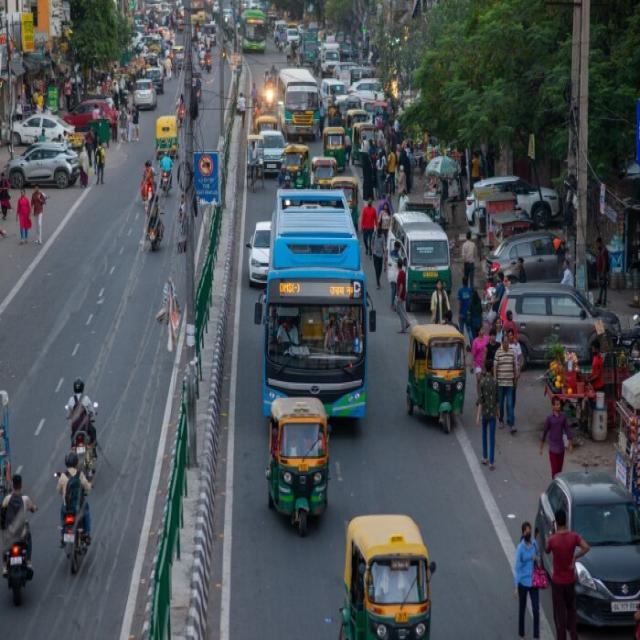Vehicles: (255, 185, 381, 411), (517, 455, 640, 640), (333, 514, 453, 640), (498, 295, 622, 387), (404, 313, 474, 441), (485, 224, 596, 302), (270, 395, 340, 516), (390, 206, 456, 307), (470, 163, 564, 230), (3, 144, 93, 200), (276, 56, 328, 148), (4, 108, 81, 164), (147, 115, 195, 175), (67, 94, 133, 134), (56, 503, 90, 572), (320, 115, 352, 177), (246, 220, 274, 289), (7, 538, 35, 602), (328, 164, 359, 221), (68, 426, 98, 484), (346, 110, 378, 163), (348, 74, 389, 114), (237, 10, 268, 58), (259, 122, 289, 168), (244, 129, 267, 183), (310, 152, 338, 192), (132, 82, 162, 119), (286, 140, 309, 185), (320, 43, 344, 80), (338, 66, 366, 89), (283, 26, 302, 52), (265, 85, 279, 118)
